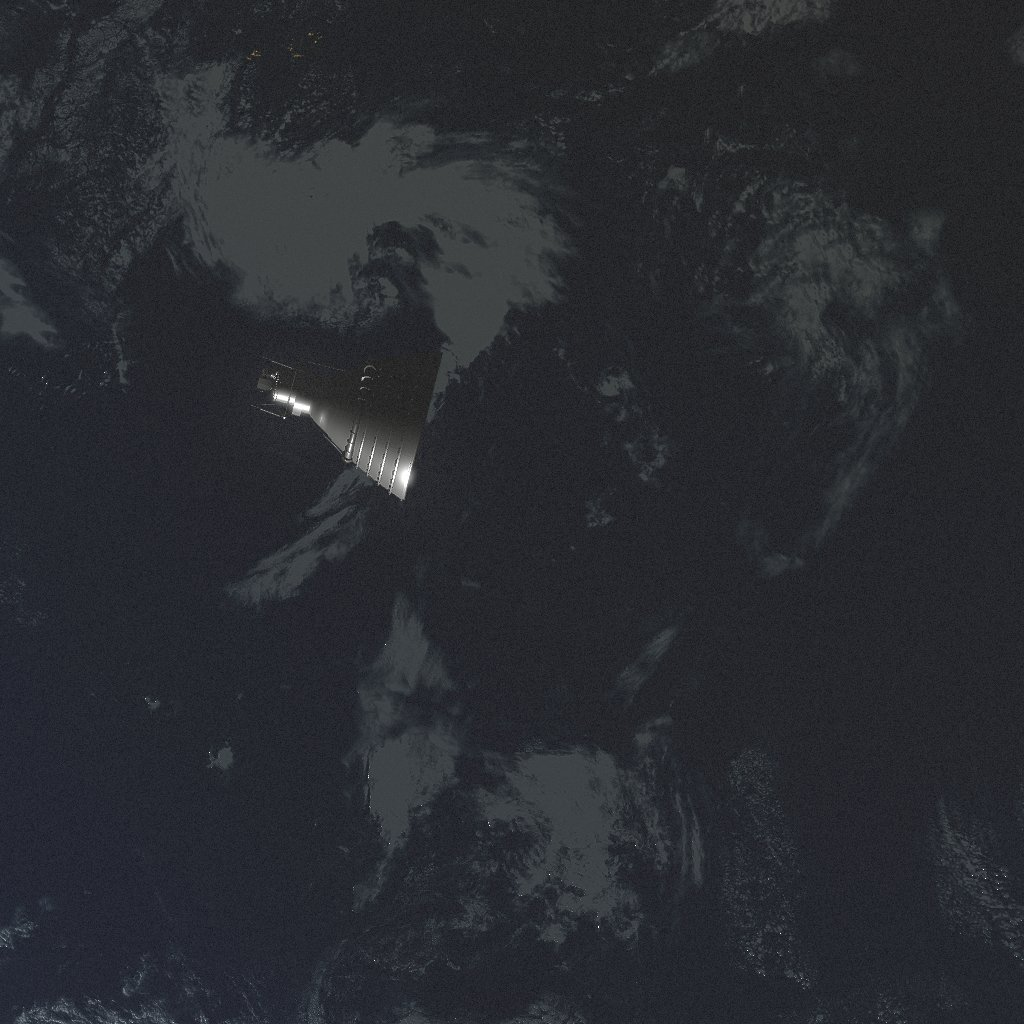debris: (251, 351, 443, 501)
